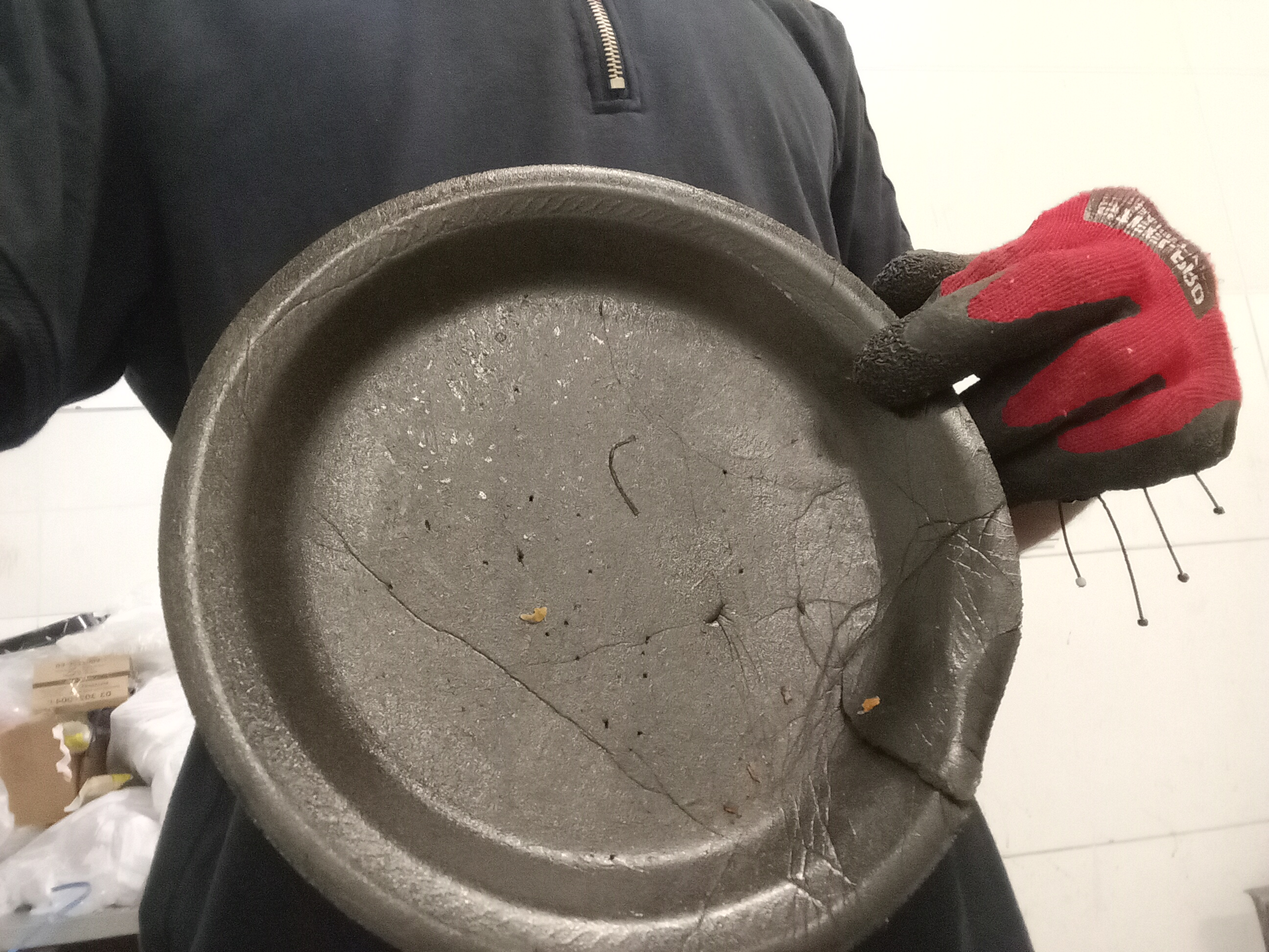Ordinario: (158, 166, 1019, 952)
